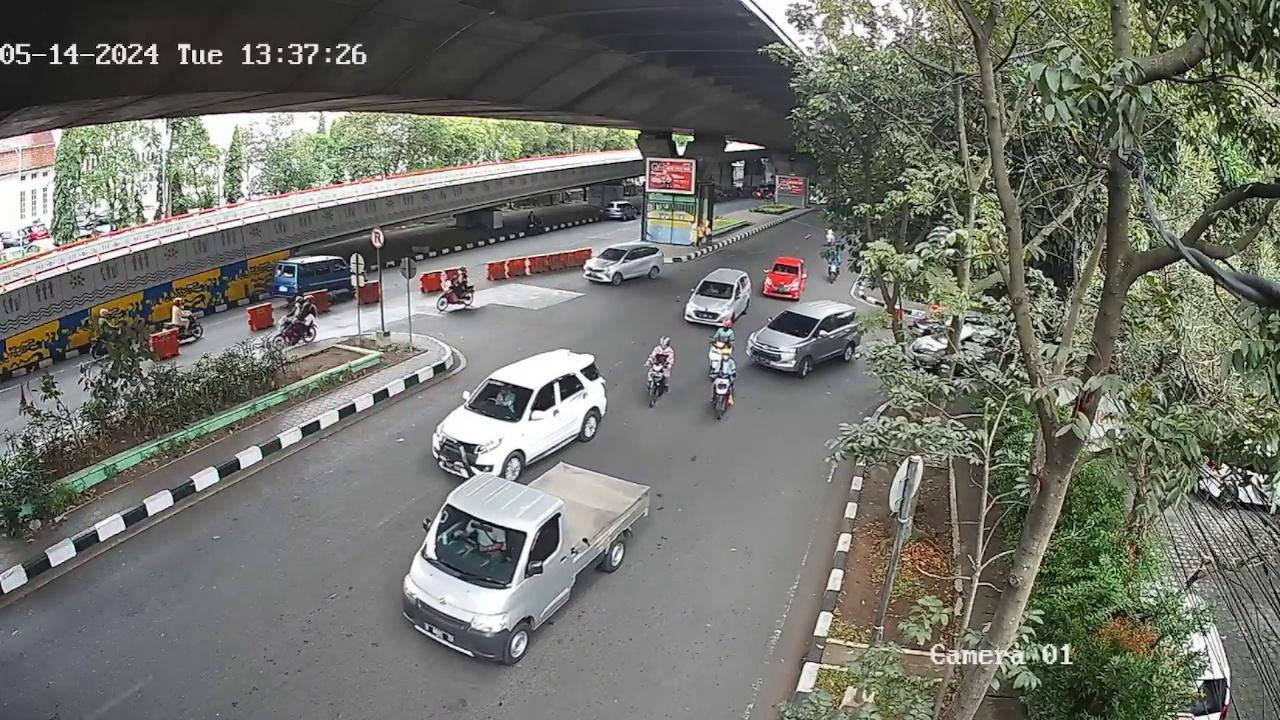pakai: (461, 519, 507, 555), (490, 388, 515, 410)
windshield: (420, 502, 522, 574), (468, 377, 539, 425), (765, 309, 820, 337), (693, 278, 738, 301)
